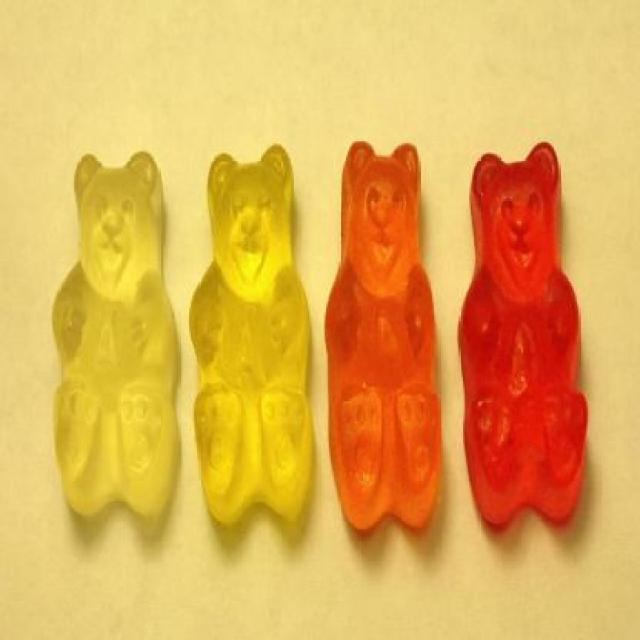Candy: (45, 143, 588, 532), (460, 132, 588, 518), (190, 135, 316, 520), (328, 130, 439, 542)
